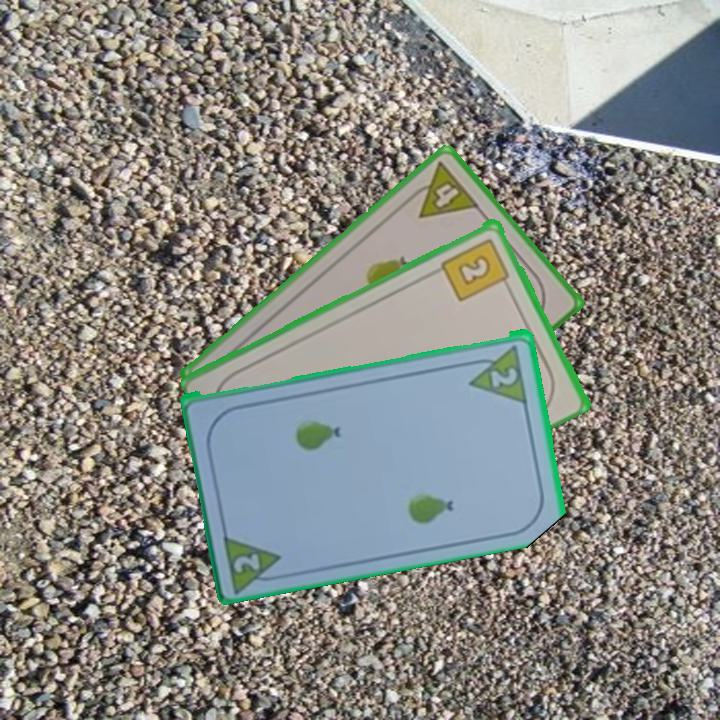2b: (438, 234, 514, 304)
2p: (487, 363, 521, 390), (230, 549, 264, 575)
4p: (402, 157, 482, 221)
